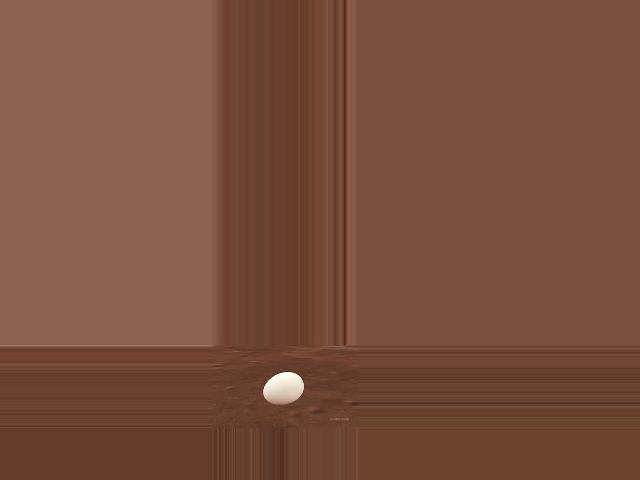egg: (262, 372, 303, 404)
